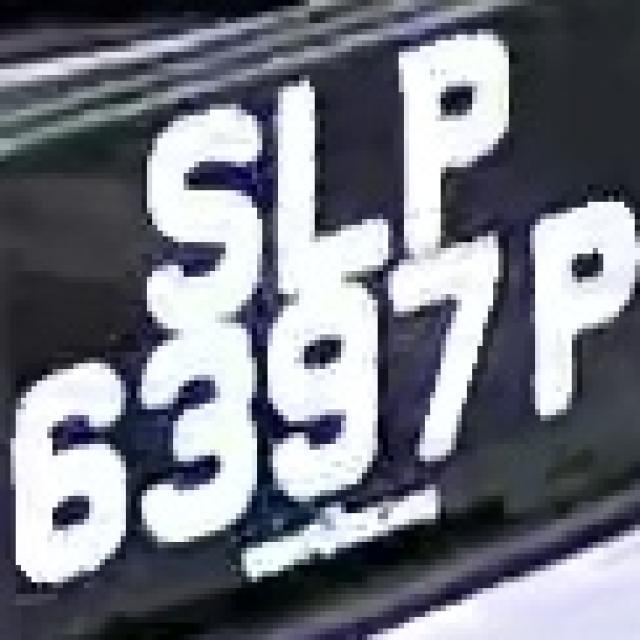3: (126, 323, 278, 559)
6: (21, 352, 121, 611)
7: (383, 236, 509, 484)
9: (252, 288, 393, 519)
L: (262, 52, 399, 300)
P: (378, 29, 509, 248), (4, 2, 6, 4)
S: (115, 86, 262, 334)
